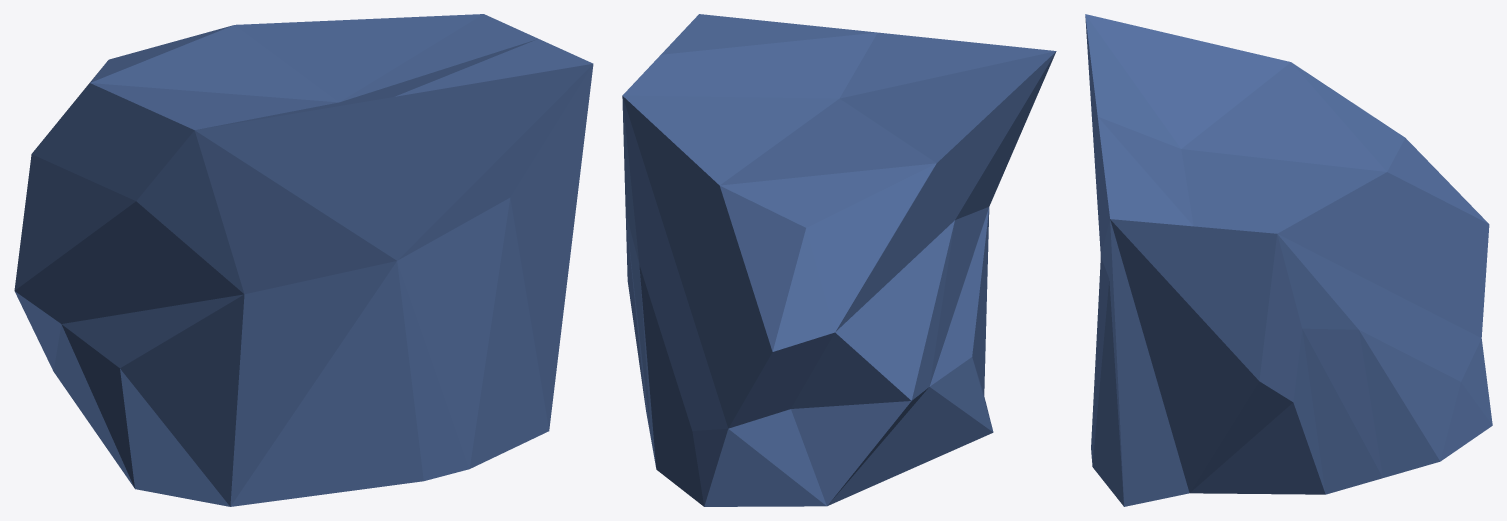
File: rock4.gltf
3 renders of one model, left to right at view 1: azimuth 30°, elevation 25°; view 2: azimuth 150°, elevation 25°; view 3: azimuth 270°, elevation 25°, orthographic. The views are drawn at different scales.
Parts seen in each view (by area): view 1: SP_Rock06_Mat; view 2: SP_Rock06_Mat; view 3: SP_Rock06_Mat.
Boxes of the visible parts, left/top/right/bottom form: SP_Rock06_Mat: left=14, top=14, right=593, bottom=506; SP_Rock06_Mat: left=622, top=14, right=1056, bottom=506; SP_Rock06_Mat: left=1085, top=14, right=1492, bottom=506.
Size of the model in its own units: 38.28 by 35.99 by 39.09.
